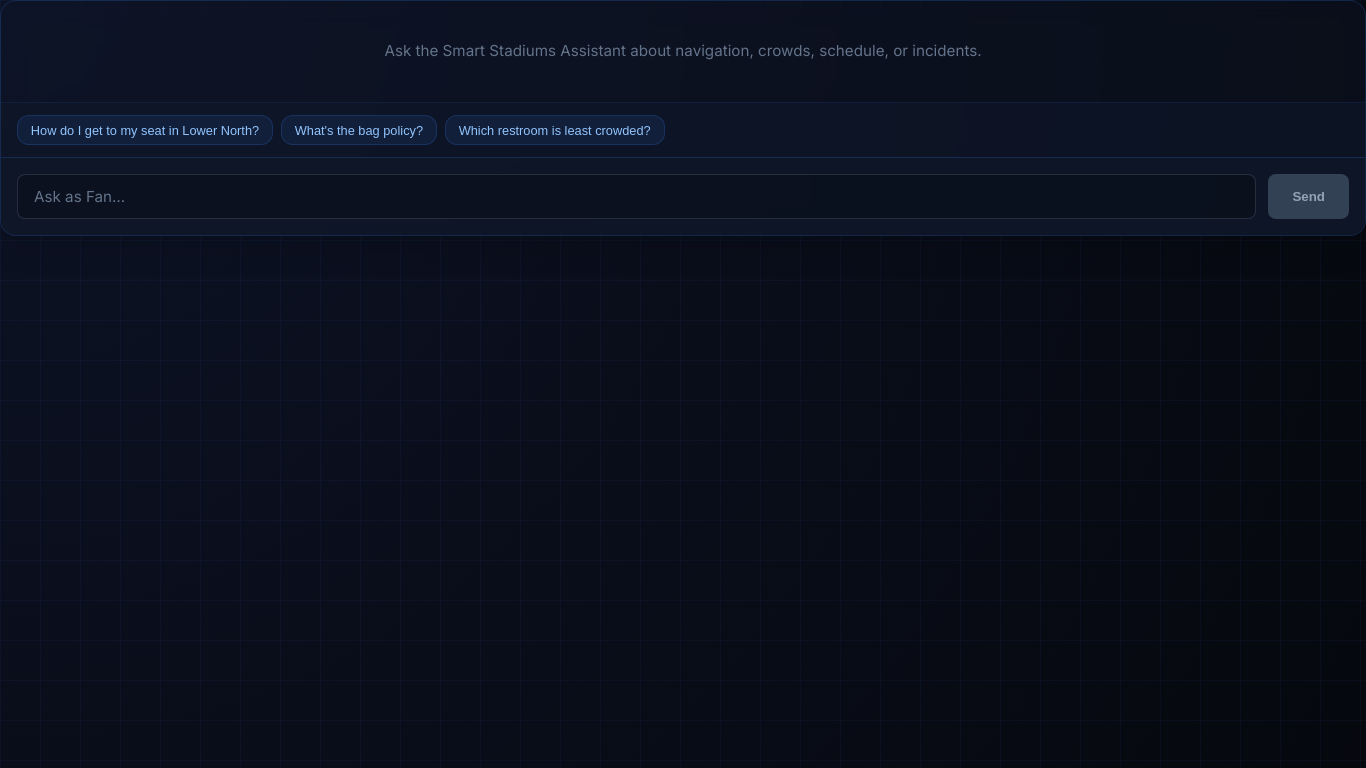
it: sends a chat request and displays the reply
The width and height of the screenshot is (1366, 768).
Type "How is the North Gate?" into the field with placeholder "Ask as Fan…". click: (637, 196)
box: [17, 174, 1256, 219]
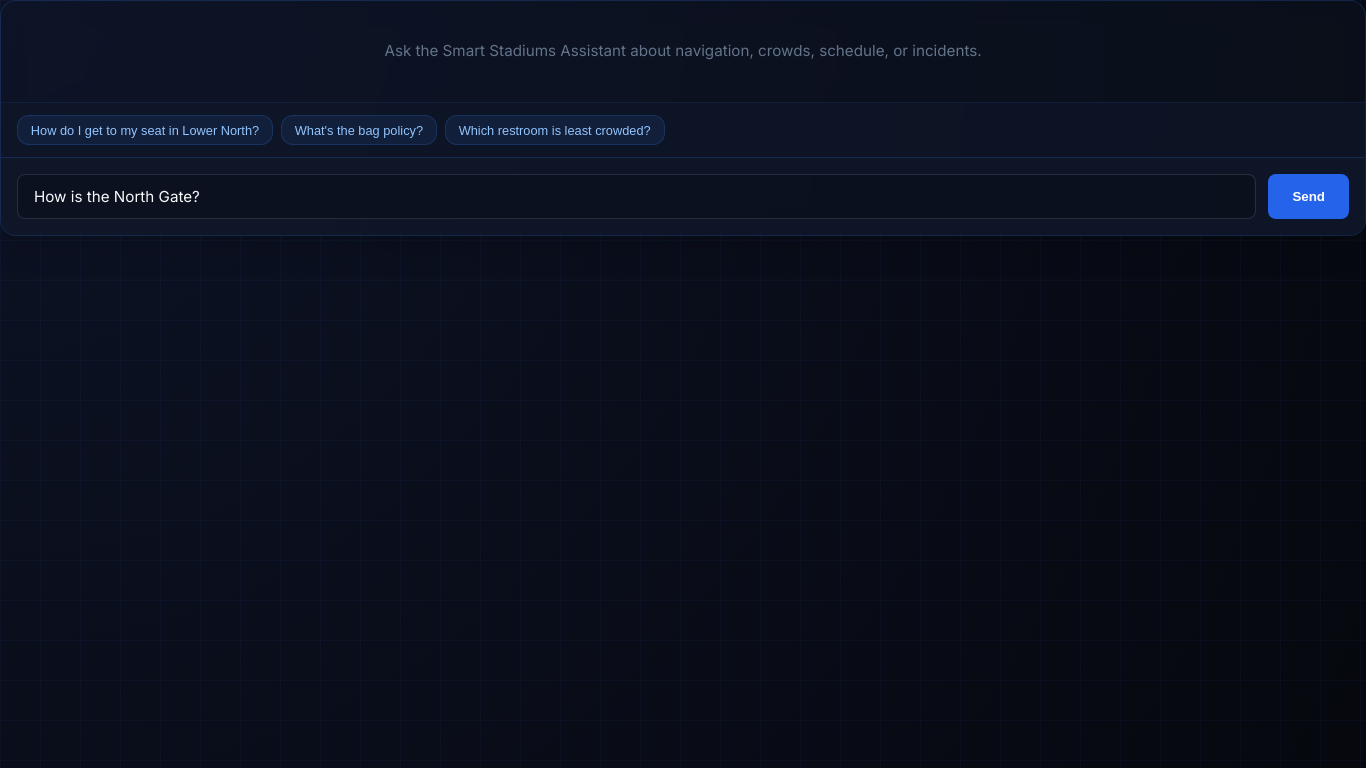
Click the button "Send". click: click(1309, 196)
box: [1268, 174, 1349, 219]
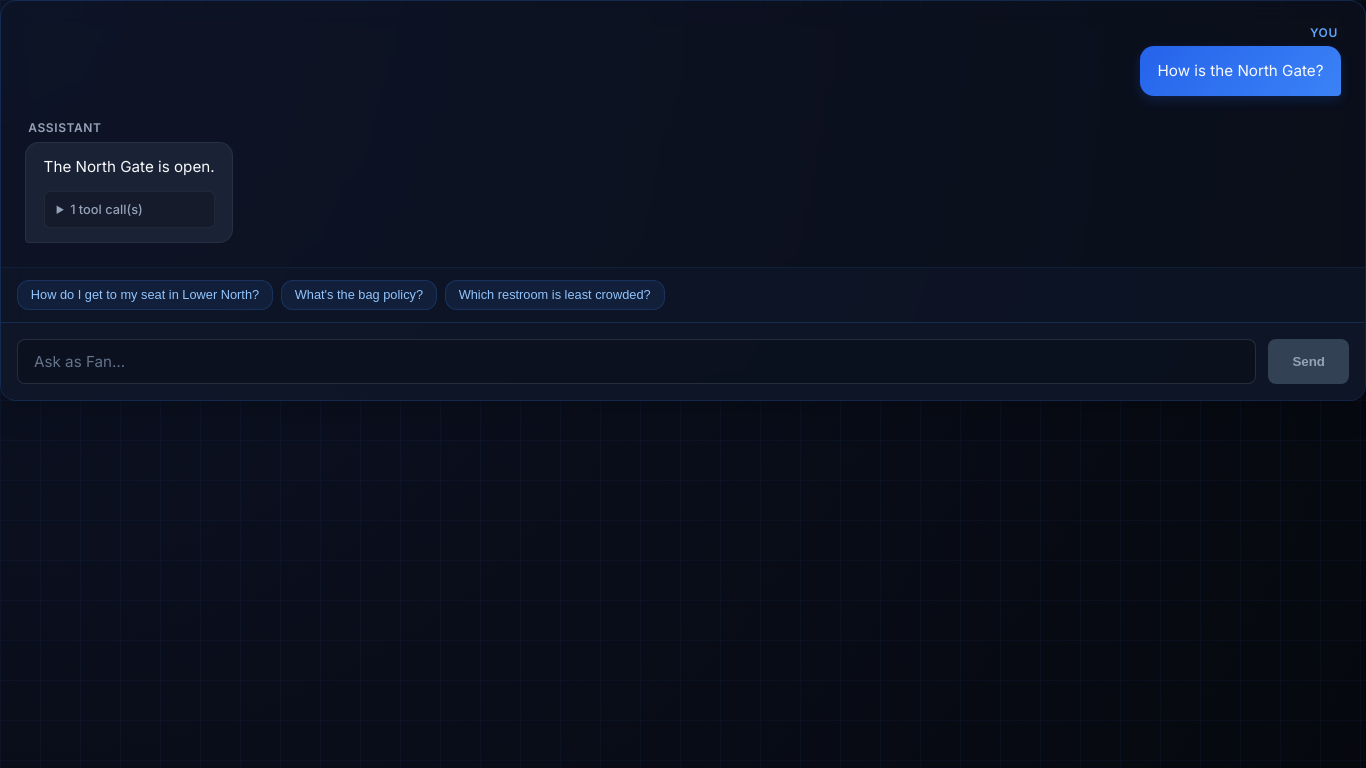
Expected: the text "The North Gate is open." is shown, [44, 157, 215, 176]
Expected: the heading "1 tool call(s)" is shown, [70, 202, 143, 217]
